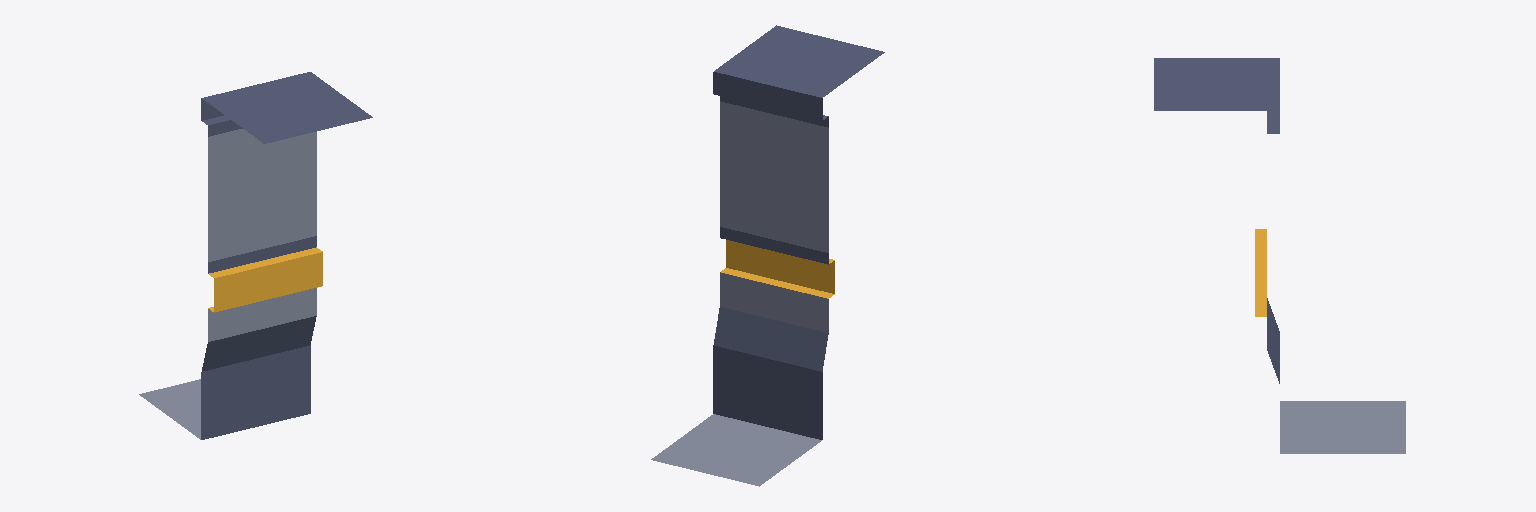
File: structure-wall.obj
3 renders of one model, left to right at view 1: azimuth 30°, elevation 25°; view 2: azimuth 150°, elevation 25°; view 3: azimuth 270°, elevation 25°, orthographic.
Parts seen in each view (by area): view 1: structure-wall; view 2: structure-wall; view 3: structure-wall.
Part boxes in pixels (left/top/right/bottom): structure-wall: left=139, top=72, right=372, bottom=439; structure-wall: left=651, top=25, right=884, bottom=486; structure-wall: left=1154, top=58, right=1405, bottom=453.
Size of the model in its own units: 1 by 3 by 2.